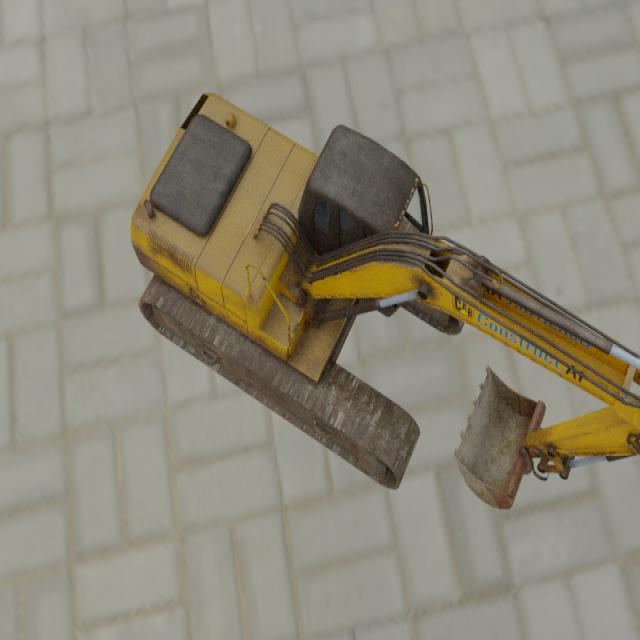excavator: (129, 91, 640, 509)
